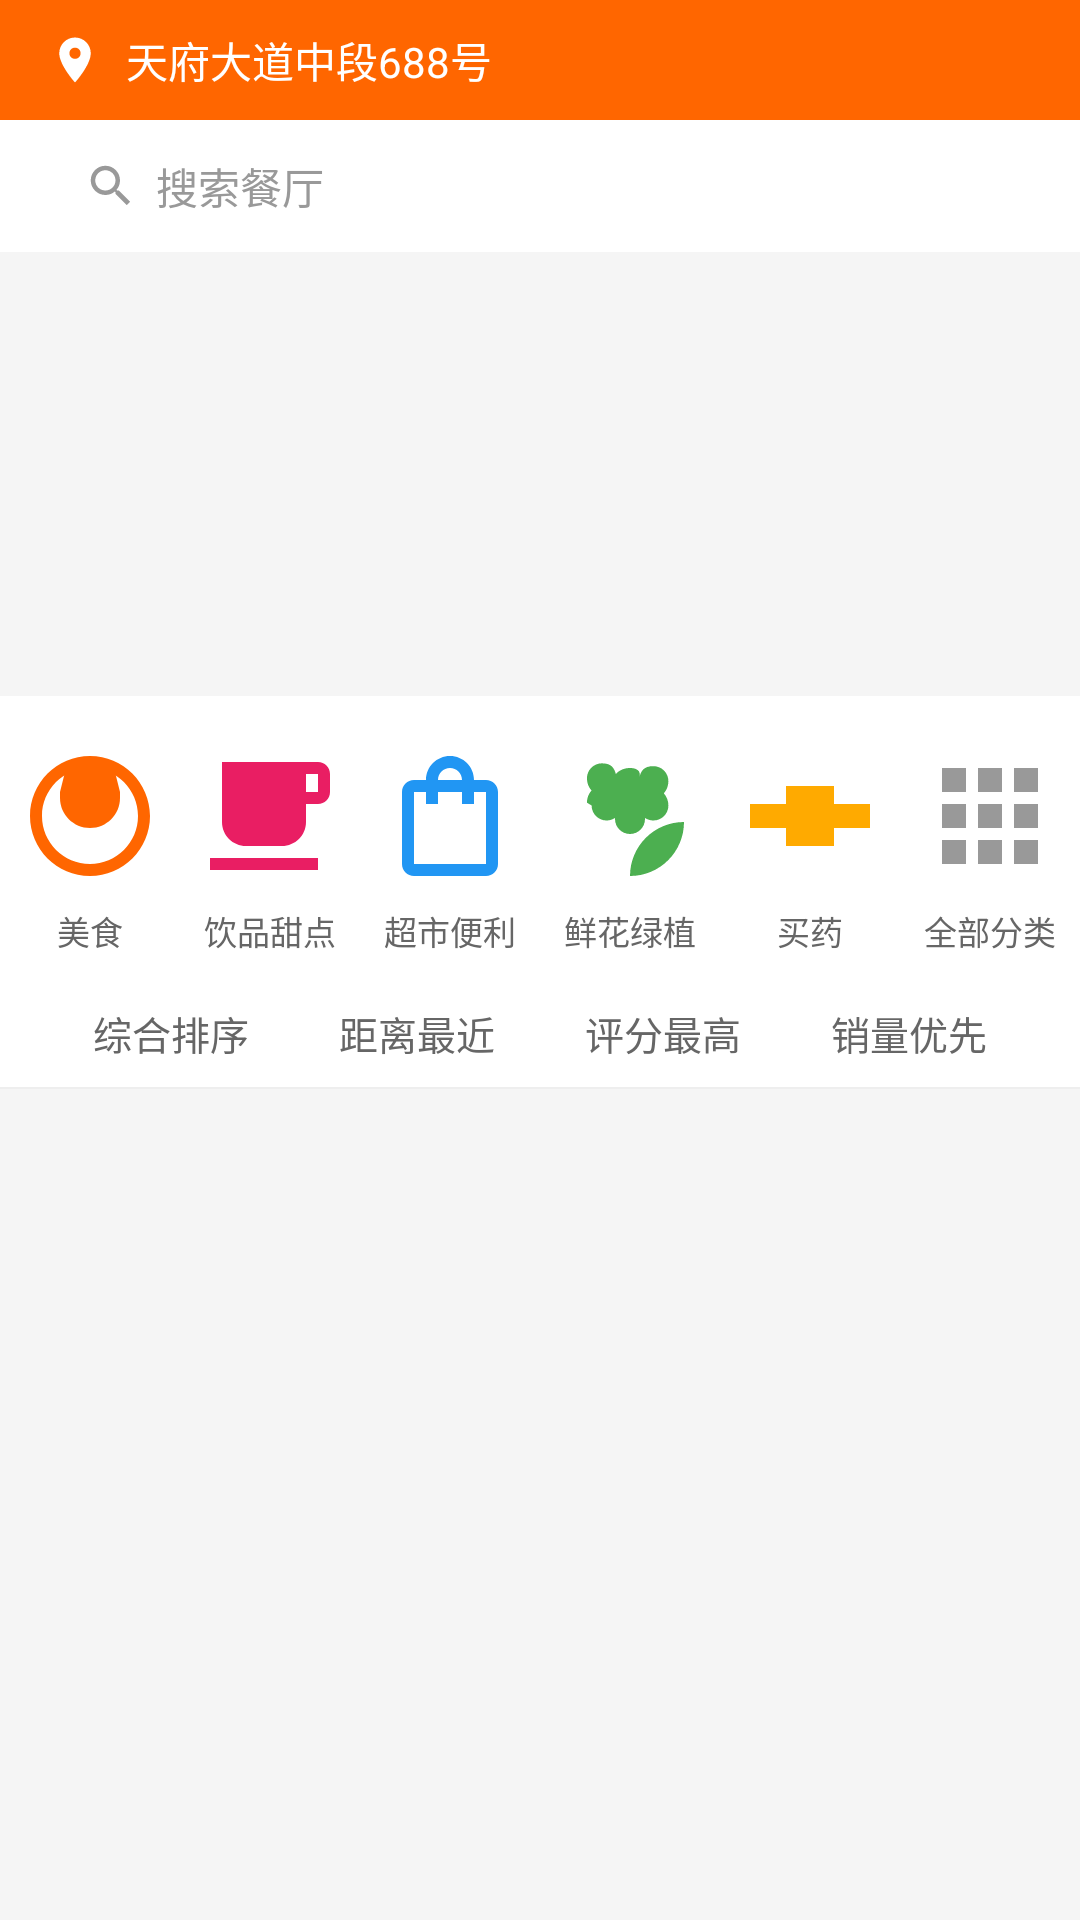

Screen size 1080×1920. Icon name, then its center in pixels as point (x, y):
category more: point (990, 816)
profile address: point (75, 59)
